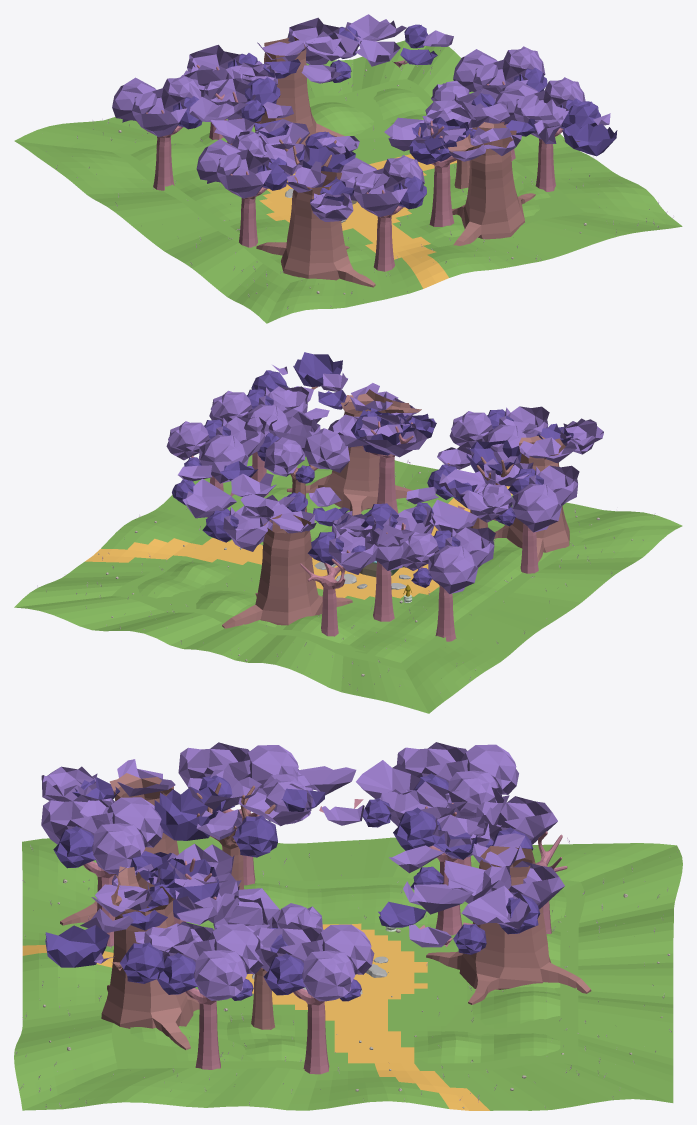
File: dawn_spring.fbx
The picture shows the model from 3 angles, top to bottom: view 1: azimuth 30°, elevation 25°; view 2: azimuth 150°, elevation 25°; view 3: azimuth 270°, elevation 25°; orthographic projection. The views are drawn at different scales.
Parts seen in each view (by area): view 1: Plane, Vert.016, Vert.015, Vert.006, Icosphere.047, Icosphere.052, Vert.003, Icosphere.072, Icosphere.057, Icosphere.055, Icosphere.050, Icosphere.062 (+46 smaller); view 2: Plane, Vert.006, Vert.016, Vert.015, Icosphere.055, Icosphere.050, Icosphere.062, Icosphere.030, Icosphere.045, Icosphere.057, Vert.011, Icosphere.024 (+41 smaller); view 3: Plane, Vert.006, Vert.016, Icosphere.013, Icosphere.043, Icosphere.068, Icosphere.057, Icosphere.039, Icosphere.047, Icosphere.073, Icosphere.042, Icosphere.072 (+59 smaller).
Boxes of the visible parts, x1,y1,x2,y2 form: Plane: [14, 40, 682, 323]; Vert.016: [448, 122, 535, 245]; Vert.015: [256, 171, 375, 287]; Vert.006: [254, 36, 344, 145]; Icosphere.047: [216, 149, 271, 198]; Icosphere.052: [132, 88, 187, 136]; Vert.003: [417, 120, 471, 226]; Icosphere.072: [353, 168, 407, 217]; Icosphere.057: [187, 44, 242, 85]; Icosphere.055: [112, 77, 157, 122]; Icosphere.050: [196, 139, 241, 183]; Icosphere.062: [287, 17, 341, 64]; Plane: [14, 455, 682, 713]; Vert.006: [222, 514, 352, 628]; Vert.016: [287, 389, 421, 515]; Vert.015: [494, 435, 569, 562]; Icosphere.055: [428, 545, 477, 594]; Icosphere.050: [512, 483, 561, 532]; Icosphere.062: [223, 506, 273, 551]; Icosphere.030: [304, 428, 349, 472]; Icosphere.045: [199, 434, 248, 483]; Icosphere.057: [328, 528, 379, 574]; Vert.011: [300, 550, 350, 636]; Icosphere.024: [182, 478, 236, 518]; Plane: [14, 836, 682, 1110]; Vert.006: [426, 846, 591, 1004]; Vert.016: [101, 866, 199, 1049]; Icosphere.013: [154, 786, 225, 840]; Icosphere.043: [302, 950, 355, 1001]; Icosphere.068: [194, 950, 246, 1000]; Icosphere.057: [476, 796, 557, 844]; Icosphere.039: [45, 925, 109, 967]; Icosphere.047: [178, 742, 250, 786]; Icosphere.073: [92, 823, 145, 873]; Icosphere.042: [253, 922, 323, 971]; Icosphere.072: [41, 794, 113, 844].
Bounding box in the file's own units: 43381 × 11090 × 45984.
